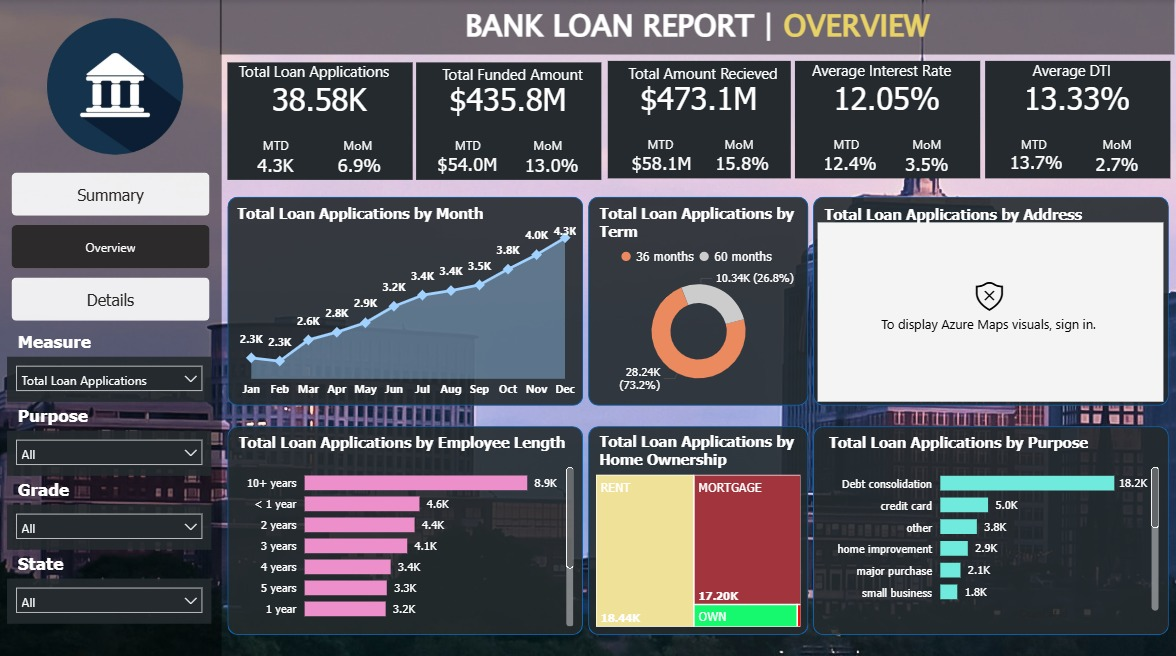

What the dashboard file says about the page in this screenshot:
{"tool":"powerbi","page":{"name":"Overview","canvas":[1280,720],"ordinal":1},"visuals":[{"type":"textbox","box":[241.7,0,1036.8,60.1],"z":0},{"type":"shape","box":[1072.5,67.5,201.2,127.6],"z":0,"group":"g5"},{"type":"shape","box":[661.9,67.8,198.8,127.6],"z":0,"group":"g3"},{"type":"shape","box":[865.9,67.8,201.2,127.6],"z":0,"group":"g4"},{"type":"shape","box":[248.8,68.5,201.2,127.6],"z":0,"group":"g2"},{"type":"shape","box":[454.4,68.6,201.2,127.6],"z":0,"group":"g1"},{"type":"slicer","fields":{"Values":["Parameter.Parameter"]},"box":[10,388.3,222.1,49.1],"z":0,"group":"g8"},{"type":"slicer","fields":{"Values":["bank_loan_analysis.purpose"]},"box":[10,468.8,222.1,49.1],"z":0,"group":"g9"},{"type":"slicer","fields":{"Values":["bank_loan_analysis.grade"]},"box":[10,549.2,222.1,49.1],"z":0,"group":"g7"},{"type":"slicer","fields":{"Values":["bank_loan_analysis.address_state"]},"box":[10,629.6,222.1,49.1],"z":0,"group":"g6"},{"type":"shape","box":[0,0,242.9,720.2],"z":1000},{"type":"card","fields":{"Values":["bank_loan_analysis.Average DTI"]},"box":[1096.2,80.9,152.6,54],"z":1000,"group":"g5"},{"type":"card","fields":{"Values":["bank_loan_analysis.Average Interest Rate"]},"box":[889.6,81.2,152.6,54],"z":1000,"group":"g4"},{"type":"card","fields":{"Values":["bank_loan_analysis.Total Amount Recieved"]},"box":[685.4,81.3,150.8,54],"z":1000,"group":"g3"},{"type":"card","fields":{"Values":["bank_loan_analysis.Total Loan Applications"]},"box":[272.5,81.9,152.6,54],"z":1000,"group":"g2"},{"type":"card","fields":{"Values":["bank_loan_analysis.Total Funded Amount"]},"box":[478.1,82.1,152.6,54],"z":1000,"group":"g1"},{"type":"textbox","box":[16.1,355.2,184.1,47.9],"z":1000,"group":"g8"},{"type":"textbox","box":[16.1,435.7,184.1,47.9],"z":1000,"group":"g9"},{"type":"textbox","box":[16.1,516.1,184.1,47.9],"z":1000,"group":"g7"},{"type":"textbox","box":[16.1,596.5,184.1,47.9],"z":1000,"group":"g6"},{"type":"group","id":"g1","title":"Group 1","box":[454.4,64.9,201.2,131.3],"z":2000},{"type":"card","fields":{"Values":["bank_loan_analysis.MTD Amount Recieved"]},"box":[678.3,164,83.8,30],"z":2000,"group":"g3"},{"type":"card","fields":{"Values":["bank_loan_analysis.MTD Funded Amount"]},"box":[472.6,165,75,30],"z":2000,"group":"g1"},{"type":"card","fields":{"Values":["bank_loan_analysis.MTD DTI"]},"box":[1091.9,165.1,71.2,28.8],"z":2000,"group":"g5"},{"type":"card","fields":{"Values":["bank_loan_analysis.MTD Interest Rate"]},"box":[890,166.3,70,28],"z":2000,"group":"g4"},{"type":"card","fields":{"Values":["bank_loan_analysis.MTD Loan Applications"]},"box":[268,166.6,64.4,28.2],"z":2000,"group":"g2"},{"type":"group","id":"g2","title":"Group 1","box":[248.8,62,201.2,134.1],"z":3000},{"type":"card","fields":{"Values":["bank_loan_analysis.MoM Recieved Amount"]},"box":[772.7,164.5,68.8,31.2],"z":3000,"group":"g3"},{"type":"card","fields":{"Values":["bank_loan_analysis.MoM Funded Amount"]},"box":[566.1,164.7,71.2,31.2],"z":3000,"group":"g1"},{"type":"card","fields":{"Values":["bank_loan_analysis.MoM DTI"]},"box":[1183.3,165.6,63.3,29.4],"z":3000,"group":"g5"},{"type":"card","fields":{"Values":["bank_loan_analysis.MoM Interest Rate"]},"box":[976.7,165.9,63.3,29.4],"z":3000,"group":"g4"},{"type":"card","fields":{"Values":["bank_loan_analysis.MoM Loan Applications"]},"box":[359.6,166.6,63.3,29.4],"z":3000,"group":"g2"},{"type":"textbox","box":[1075.5,61,181.6,40.5],"z":4000,"group":"g5"},{"type":"textbox","box":[868.9,61.3,181.6,40.5],"z":4000,"group":"g4"},{"type":"textbox","box":[251.8,62,181.6,40.5],"z":4000,"group":"g2"},{"type":"group","id":"g3","title":"Group 1","box":[661.9,64.1,198.8,131.6],"z":4000},{"type":"textbox","box":[673.6,64.1,184.3,38],"z":4000,"group":"g3"},{"type":"textbox","box":[466.3,64.9,186.5,38],"z":4000,"group":"g1"},{"type":"group","id":"g4","title":"Group 1","box":[865.9,61.3,201.2,134.1],"z":5000},{"type":"textbox","box":[698.2,142.9,42.5,31.3],"z":5000,"group":"g3"},{"type":"textbox","box":[899.9,143.3,43,31],"z":5000,"group":"g4"},{"type":"textbox","box":[1103.7,143.5,43.8,30],"z":5000,"group":"g5"},{"type":"textbox","box":[488.2,143.7,43.8,31.3],"z":5000,"group":"g1"},{"type":"textbox","box":[279.2,144,43,31],"z":5000,"group":"g2"},{"type":"group","id":"g5","title":"Group 1","box":[1072.5,61,201.2,134.1],"z":6000},{"type":"textbox","box":[783.1,142.9,42.5,31.2],"z":6000,"group":"g3"},{"type":"textbox","box":[1188.4,143.3,54,30.7],"z":6000,"group":"g5"},{"type":"textbox","box":[981.8,143.6,54,30.7],"z":6000,"group":"g4"},{"type":"textbox","box":[575.6,143.7,43.8,31.2],"z":6000,"group":"g1"},{"type":"textbox","box":[363.8,144.5,53.8,30],"z":6000,"group":"g2"},{"type":"shape","box":[248.8,214.7,386.5,227],"z":7000},{"type":"areaChart","fields":{"Y":["bank_loan_analysis.Total Loan Applications"],"Category":["DateTable.Month"]},"box":[256.8,232.4,375.7,209.5],"z":8000},{"type":"group","id":"g6","title":"Group 2","box":[10,596.5,222.1,82.2],"z":9000},{"type":"shape","box":[885.8,214.7,386.5,227],"z":10000,"group":"g10"},{"type":"group","id":"g7","title":"Group 2","box":[10,516.1,222.1,82.2],"z":10000},{"type":"group","id":"g8","title":"Group 2","box":[10,355.2,222.1,82.2],"z":11000},{"type":"group","id":"g9","title":"Group 2","box":[10,435.7,222.1,82.2],"z":12000},{"type":"shape","box":[641.3,214.7,239.3,227],"z":13000},{"type":"group","id":"g10","title":"Group 3","box":[885.8,214.7,386.5,227],"z":14000},{"type":"azureMap","fields":{"Size":["bank_loan_analysis.Total Loan Applications"],"Category":["bank_loan_analysis.address_state"]},"box":[891.1,243.3,375.5,195.1],"z":15000,"group":"g10"},{"type":"donutChart","fields":{"Y":["CountNonNull(bank_loan_analysis.id)"],"Category":["bank_loan_analysis.term"]},"box":[640.5,258.9,239.3,174.2],"z":15000},{"type":"shape","box":[249,463.6,386.2,226.9],"z":16000},{"type":"clusteredBarChart","fields":{"Y":["CountNonNull(bank_loan_analysis.id)"],"Category":["bank_loan_analysis.emp_length"]},"box":[256.4,495.7,374.2,191.4],"z":17000},{"type":"shape","box":[885.8,463.6,386.5,227],"z":18000},{"type":"clusteredBarChart","fields":{"Y":["CountNonNull(bank_loan_analysis.id)"],"Category":["bank_loan_analysis.purpose"]},"box":[890.8,495.7,375.5,182.8],"z":19000},{"type":"shape","box":[641.4,463.6,239.2,226.9],"z":20000},{"type":"treemap","fields":{"Group":["bank_loan_analysis.home_ownership"],"Values":["CountNonNull(bank_loan_analysis.id)"]},"box":[645,511.2,232.5,175],"z":21000},{"type":"pageNavigator","box":[15,188.8,215,163.8],"z":22000},{"type":"image","box":[0,11.2,248.8,162.5],"z":23000},{"type":"cardVisual","fields":{"Data":["bank_loan_analysis.Dynamic Title"]},"box":[242.9,198.8,344.8,60.1],"z":24000},{"type":"cardVisual","fields":{"Data":["bank_loan_analysis.Dynamic Title 2"]},"box":[635.6,198.8,250.3,94.5],"z":25000},{"type":"cardVisual","fields":{"Data":["bank_loan_analysis.Dynamic Title 3"]},"box":[881,200,344.8,60.1],"z":26000},{"type":"cardVisual","fields":{"Data":["bank_loan_analysis.Dynamic Title 4"]},"box":[244.2,447.9,397.5,60.1],"z":27000},{"type":"cardVisual","fields":{"Data":["bank_loan_analysis.Dynamic Title 5"]},"box":[635.6,445.4,250.3,94.5],"z":28000},{"type":"cardVisual","fields":{"Data":["bank_loan_analysis.Dynamic Title 6"]},"box":[885.9,447.9,371.8,60.1],"z":29000}]}

Visuals, with their boxes in screenshot pixels (x1, y1, x2, y2), scaled from the page's 1280x720 canvas onto the 1176x656 screenshot:
textbox: <region>222, 0, 1175, 55</region>
shape: <region>985, 62, 1170, 178</region>
shape: <region>608, 62, 791, 178</region>
shape: <region>796, 62, 980, 178</region>
shape: <region>229, 62, 413, 179</region>
shape: <region>417, 63, 602, 179</region>
slicer - Parameter.Parameter: <region>9, 354, 213, 399</region>
slicer - bank_loan_analysis.purpose: <region>9, 427, 213, 472</region>
slicer - bank_loan_analysis.grade: <region>9, 500, 213, 545</region>
slicer - bank_loan_analysis.address_state: <region>9, 574, 213, 618</region>
shape: <region>0, 0, 223, 655</region>
card - bank_loan_analysis.Average DTI: <region>1007, 74, 1147, 123</region>
card - bank_loan_analysis.Average Interest Rate: <region>817, 74, 958, 123</region>
card - bank_loan_analysis.Total Amount Recieved: <region>630, 74, 768, 123</region>
card - bank_loan_analysis.Total Loan Applications: <region>250, 75, 391, 124</region>
card - bank_loan_analysis.Total Funded Amount: <region>439, 75, 579, 124</region>
textbox: <region>15, 324, 184, 367</region>
textbox: <region>15, 397, 184, 441</region>
textbox: <region>15, 470, 184, 514</region>
textbox: <region>15, 543, 184, 587</region>
"Group 1" group: <region>417, 59, 602, 179</region>
card - bank_loan_analysis.MTD Amount Recieved: <region>623, 149, 700, 177</region>
card - bank_loan_analysis.MTD Funded Amount: <region>434, 150, 503, 178</region>
card - bank_loan_analysis.MTD DTI: <region>1003, 150, 1069, 177</region>
card - bank_loan_analysis.MTD Interest Rate: <region>818, 152, 882, 177</region>
card - bank_loan_analysis.MTD Loan Applications: <region>246, 152, 305, 177</region>
"Group 1" group: <region>229, 56, 413, 179</region>
card - bank_loan_analysis.MoM Recieved Amount: <region>710, 150, 773, 178</region>
card - bank_loan_analysis.MoM Funded Amount: <region>520, 150, 586, 178</region>
card - bank_loan_analysis.MoM DTI: <region>1087, 151, 1145, 178</region>
card - bank_loan_analysis.MoM Interest Rate: <region>897, 151, 956, 178</region>
card - bank_loan_analysis.MoM Loan Applications: <region>330, 152, 389, 179</region>
textbox: <region>988, 56, 1155, 92</region>
textbox: <region>798, 56, 965, 93</region>
textbox: <region>231, 56, 398, 93</region>
"Group 1" group: <region>608, 58, 791, 178</region>
textbox: <region>619, 58, 788, 93</region>
textbox: <region>428, 59, 600, 94</region>
"Group 1" group: <region>796, 56, 980, 178</region>
textbox: <region>641, 130, 681, 159</region>
textbox: <region>827, 131, 866, 159</region>
textbox: <region>1014, 131, 1054, 158</region>
textbox: <region>449, 131, 489, 159</region>
textbox: <region>257, 131, 296, 159</region>
"Group 1" group: <region>985, 56, 1170, 178</region>
textbox: <region>719, 130, 759, 159</region>
textbox: <region>1092, 131, 1141, 159</region>
textbox: <region>902, 131, 952, 159</region>
textbox: <region>529, 131, 569, 159</region>
textbox: <region>334, 132, 384, 159</region>
shape: <region>229, 196, 584, 402</region>
areaChart - bank_loan_analysis.Total Loan Applications x DateTable.Month: <region>236, 212, 581, 403</region>
"Group 2" group: <region>9, 543, 213, 618</region>
shape: <region>814, 196, 1169, 402</region>
"Group 2" group: <region>9, 470, 213, 545</region>
"Group 2" group: <region>9, 324, 213, 399</region>
"Group 2" group: <region>9, 397, 213, 472</region>
shape: <region>589, 196, 809, 402</region>
"Group 3" group: <region>814, 196, 1169, 402</region>
azureMap - bank_loan_analysis.Total Loan Applications x bank_loan_analysis.address_state: <region>819, 222, 1164, 399</region>
donutChart - CountNonNull(bank_loan_analysis.id) x bank_loan_analysis.term: <region>588, 236, 808, 395</region>
shape: <region>229, 422, 584, 629</region>
clusteredBarChart - CountNonNull(bank_loan_analysis.id) x bank_loan_analysis.emp_length: <region>236, 452, 579, 626</region>
shape: <region>814, 422, 1169, 629</region>
clusteredBarChart - CountNonNull(bank_loan_analysis.id) x bank_loan_analysis.purpose: <region>818, 452, 1163, 618</region>
shape: <region>589, 422, 809, 629</region>
treemap - bank_loan_analysis.home_ownership x CountNonNull(bank_loan_analysis.id): <region>593, 466, 806, 625</region>
pageNavigator: <region>14, 172, 211, 321</region>
image: <region>0, 10, 229, 158</region>
cardVisual - bank_loan_analysis.Dynamic Title: <region>223, 181, 540, 236</region>
cardVisual - bank_loan_analysis.Dynamic Title 2: <region>584, 181, 814, 267</region>
cardVisual - bank_loan_analysis.Dynamic Title 3: <region>809, 182, 1126, 237</region>
cardVisual - bank_loan_analysis.Dynamic Title 4: <region>224, 408, 590, 463</region>
cardVisual - bank_loan_analysis.Dynamic Title 5: <region>584, 406, 814, 492</region>
cardVisual - bank_loan_analysis.Dynamic Title 6: <region>814, 408, 1156, 463</region>
